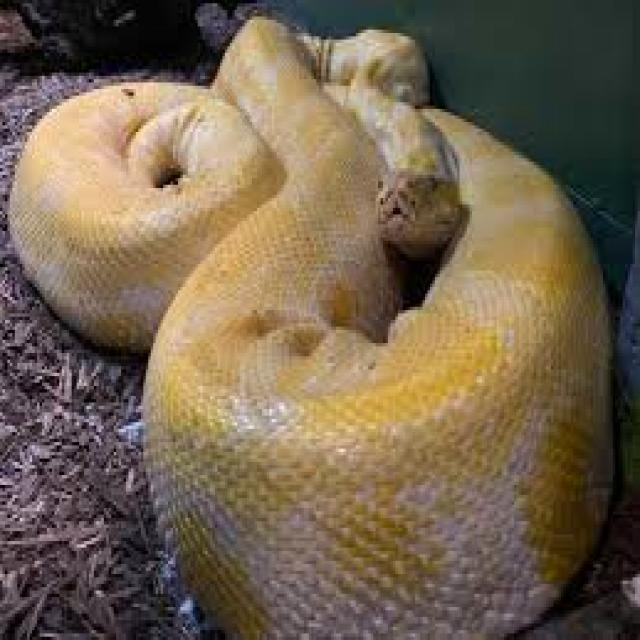snake: (10, 16, 608, 637)
